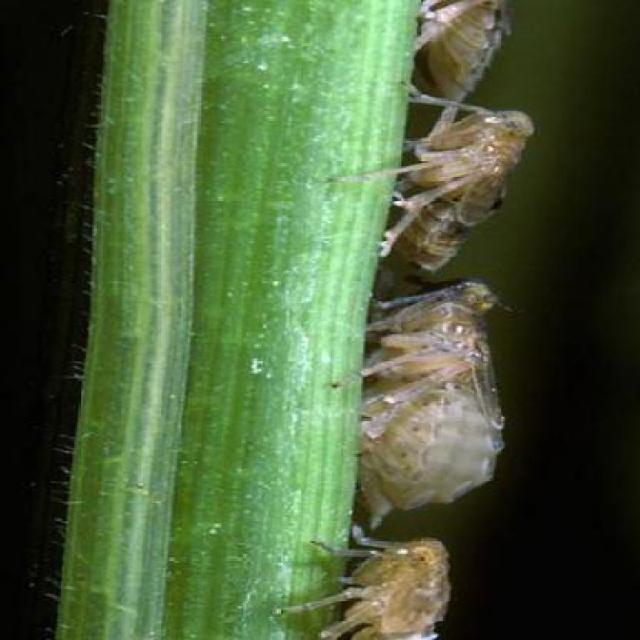brown-planthopper: (375, 289, 507, 513), (394, 80, 540, 274), (346, 526, 459, 640)
